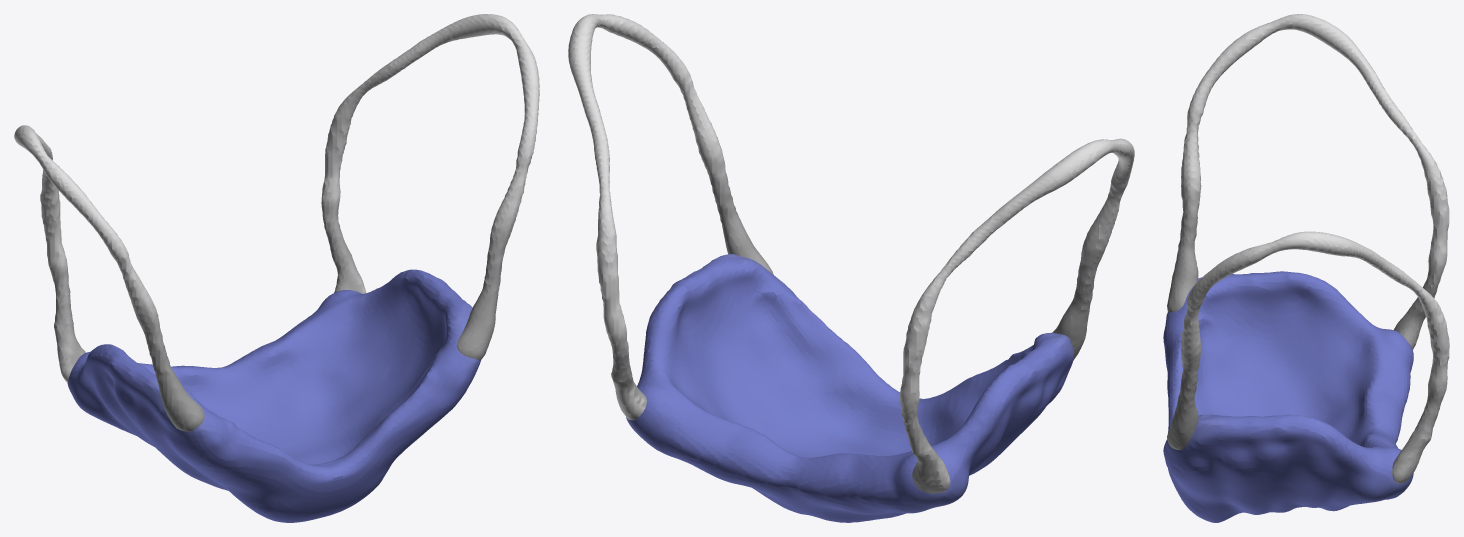
File: sergical mask.obj
The picture shows the model from 3 angles, left to right: view 1: azimuth 30°, elevation 25°; view 2: azimuth 150°, elevation 25°; view 3: azimuth 270°, elevation 25°; orthographic projection. The views are drawn at different scales.
Visible parts, largest first — view 1: Layer_1, Layer_2; view 2: Layer_1, Layer_2; view 3: Layer_1, Layer_2.
Part boxes in pixels (x1=…): Layer_1: x1=67, y1=269, x2=480, y2=522; Layer_2: x1=14, y1=14, x2=539, y2=431; Layer_1: x1=626, y1=254, x2=1073, y2=522; Layer_2: x1=568, y1=14, x2=1134, y2=493; Layer_1: x1=1163, y1=271, x2=1413, y2=522; Layer_2: x1=1167, y1=14, x2=1449, y2=483.
Size of the model in its own units: 546 by 438 by 292.
